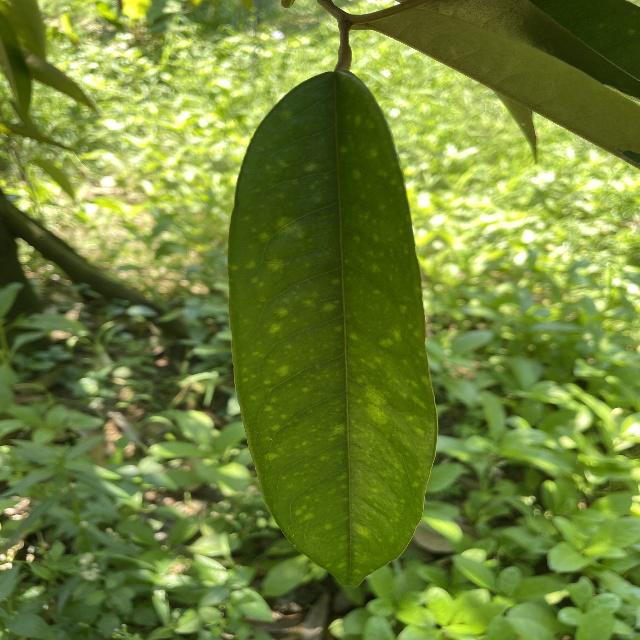Leaf Spot: (221, 63, 445, 612)
